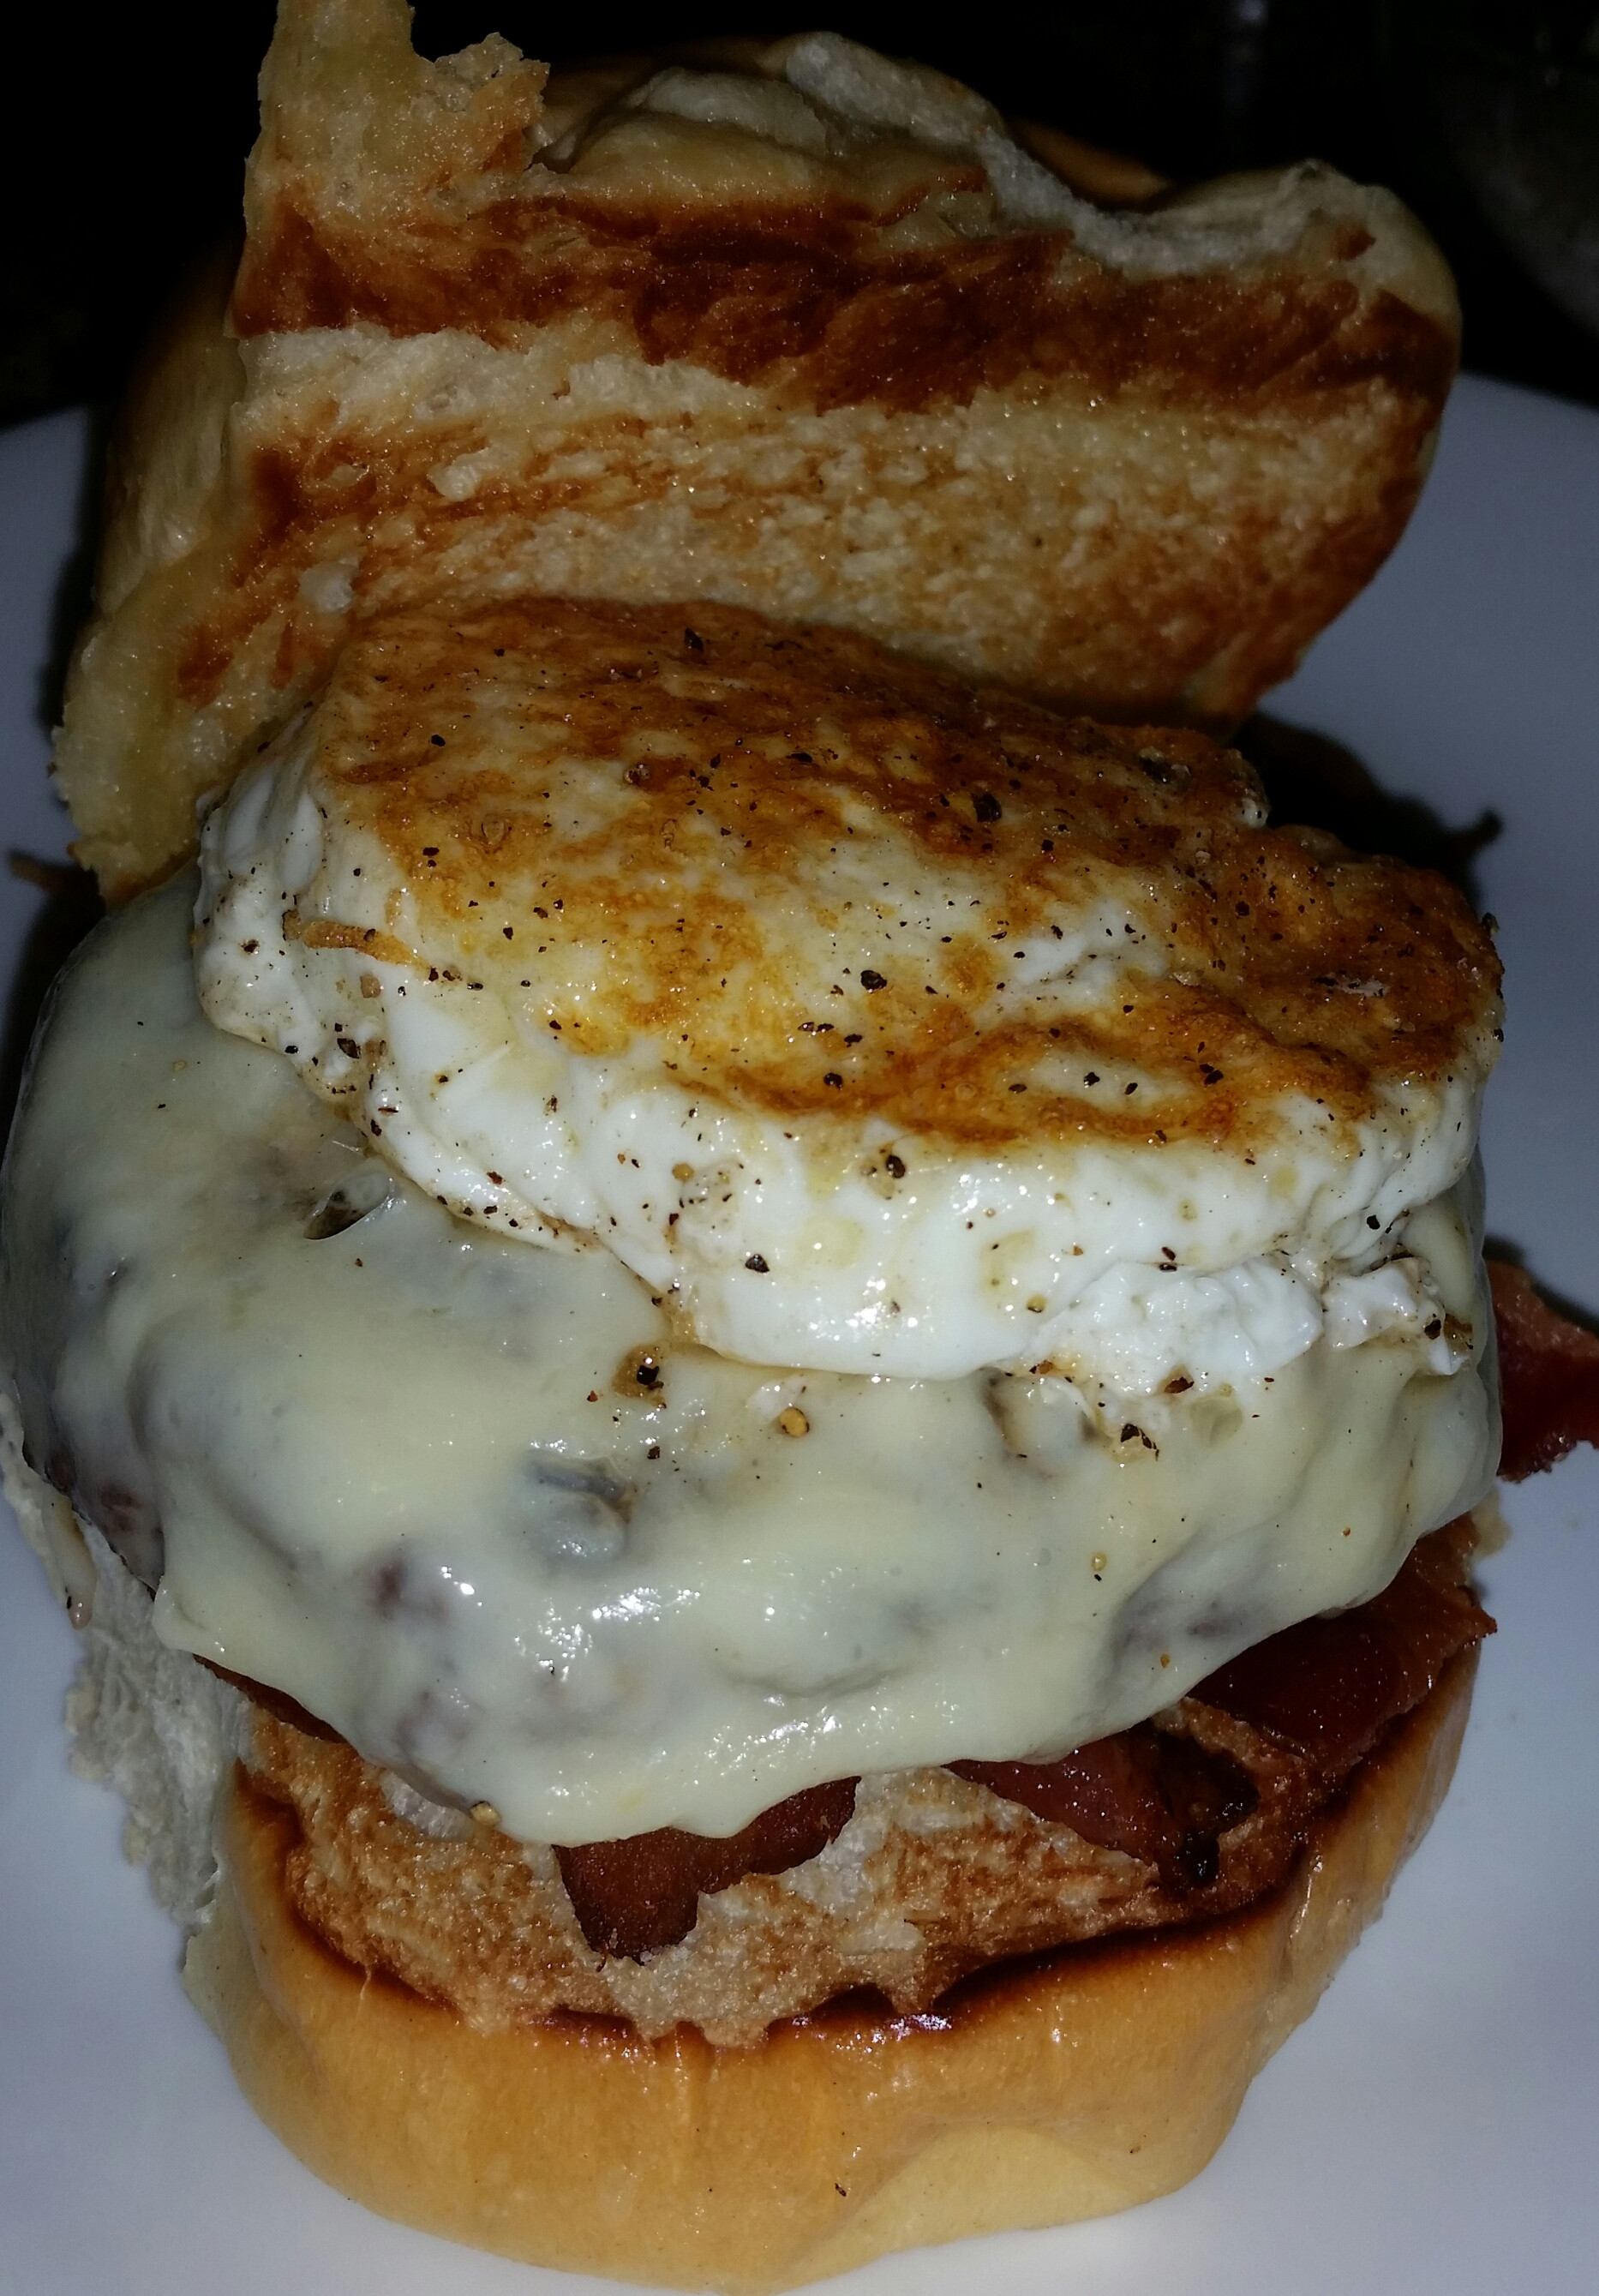fried egg: (305, 646, 1411, 1322)
slice of bread: (166, 1821, 1402, 2217)
